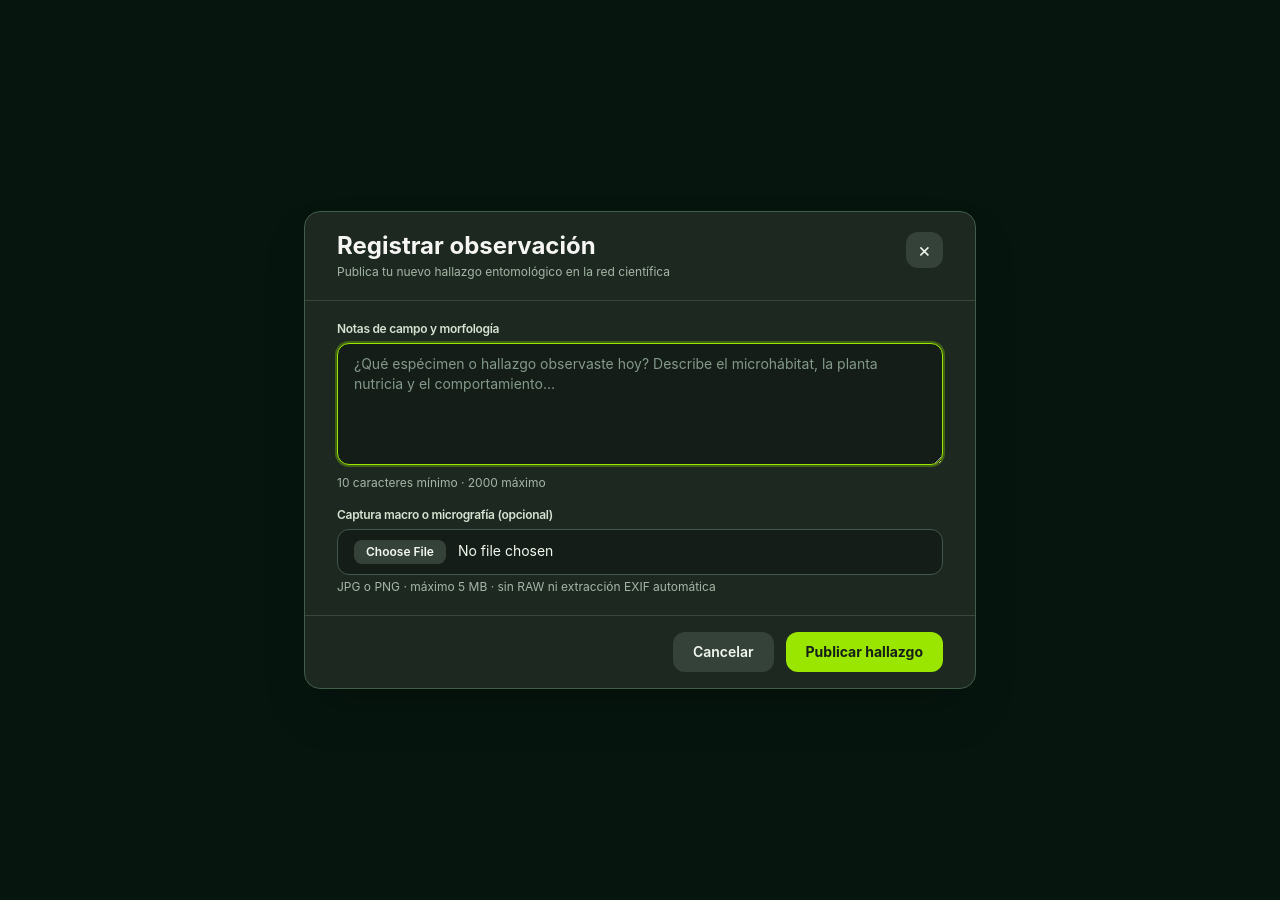
Test: CrearPublicacionModal › mantiene el diálogo abierto y muestra el error de red
The width and height of the screenshot is (1280, 900).
Replace the text in the text box labelled "Notas de campo y morfología" with "Observación de campo suficientemente detallada." at (640, 404), box [337,343,943,465]
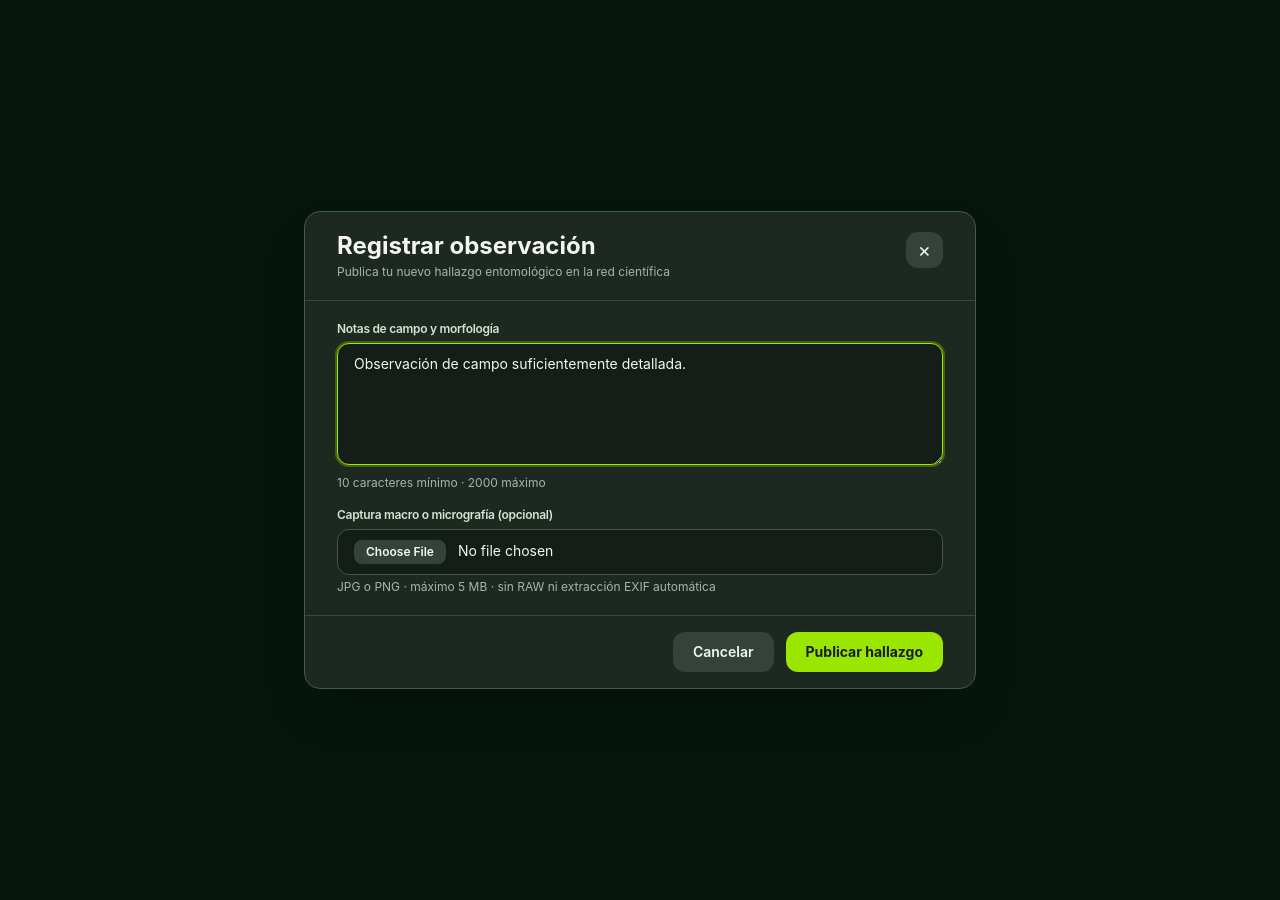
Click the button "Publicar hallazgo".
click(864, 652)  # box [786,632,943,672]
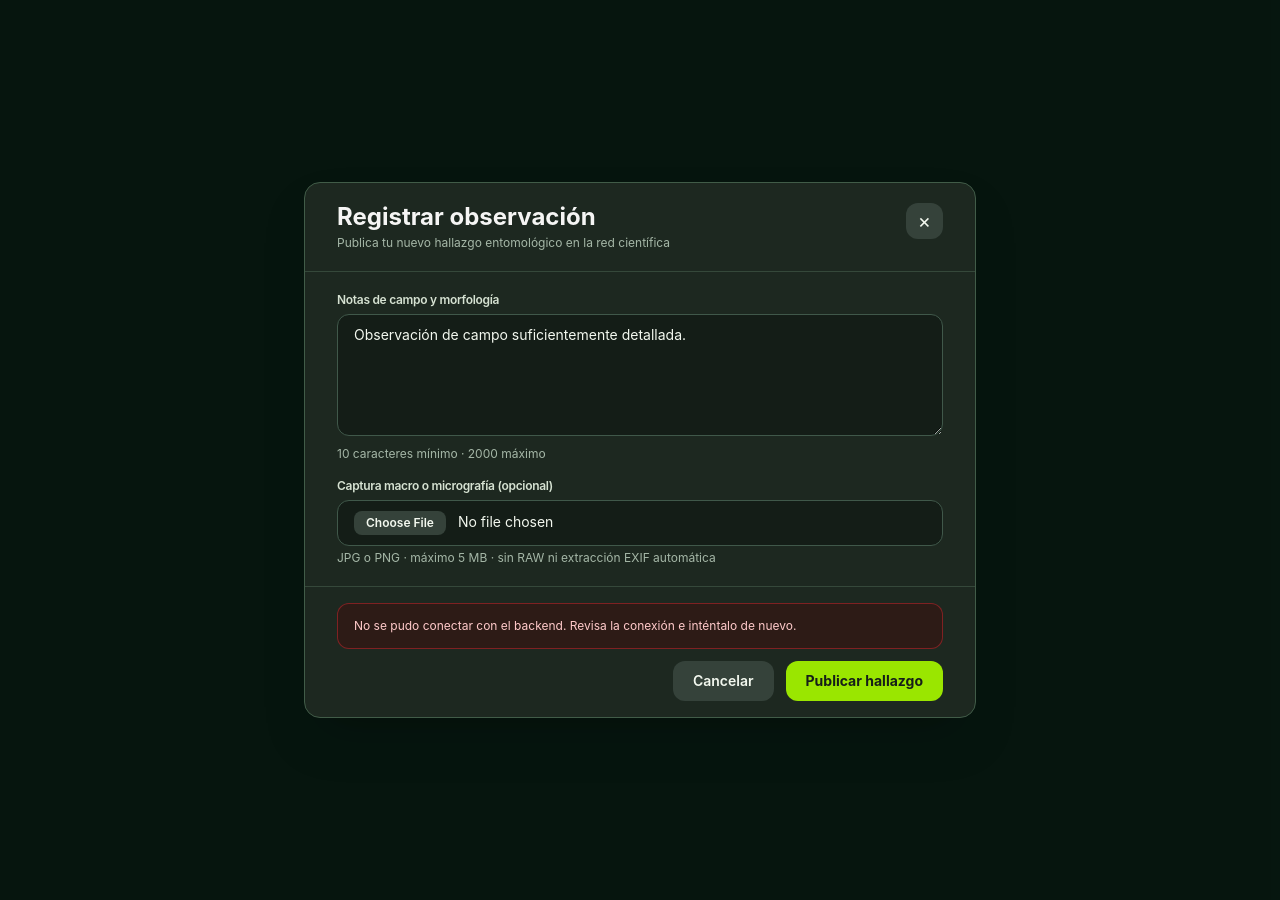
Expected: the dialog is shown, [304,182,976,718]
Result: the text "No se pudo conectar con el backend. Revisa la conexión e inténtalo de nuevo." is shown at [337,603,943,649]
